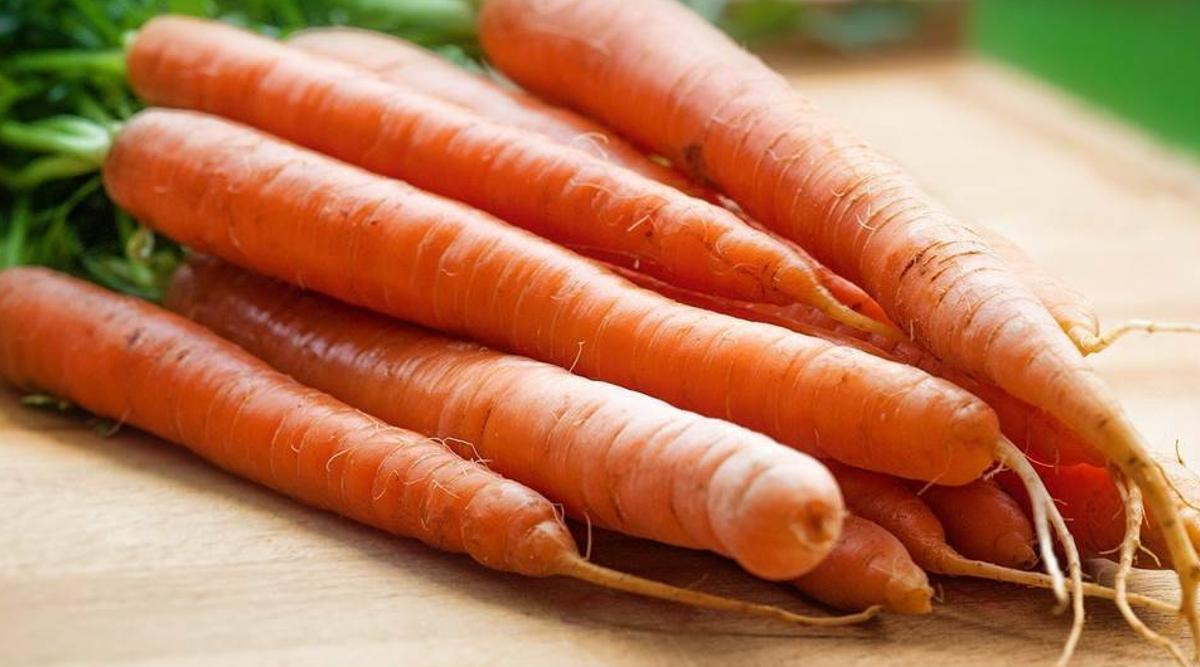carrot: (0, 10, 1184, 610), (84, 103, 1013, 517)
